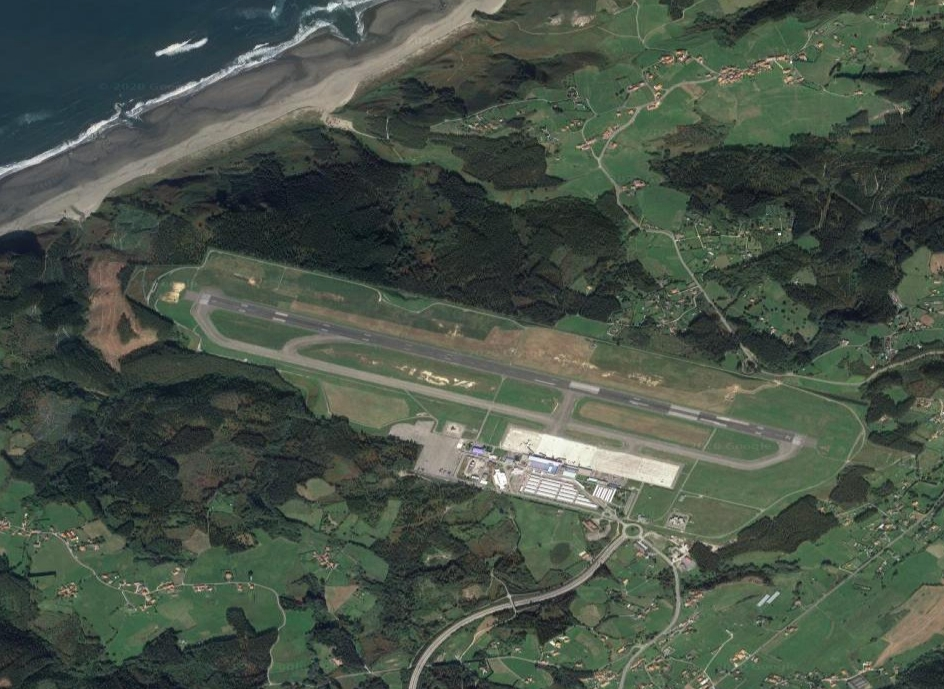airport: (181, 289, 818, 523)
motorway: (405, 626, 452, 689), (450, 592, 526, 630), (525, 567, 590, 606), (646, 600, 681, 646), (617, 643, 649, 689), (588, 531, 625, 568), (660, 554, 681, 598)
